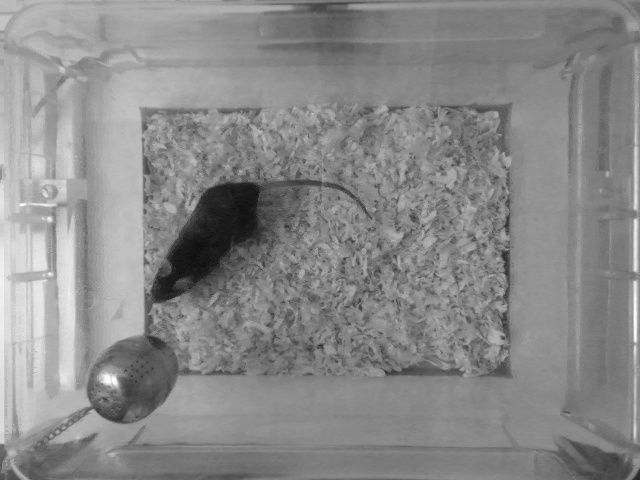mice: (143, 172, 374, 315)
